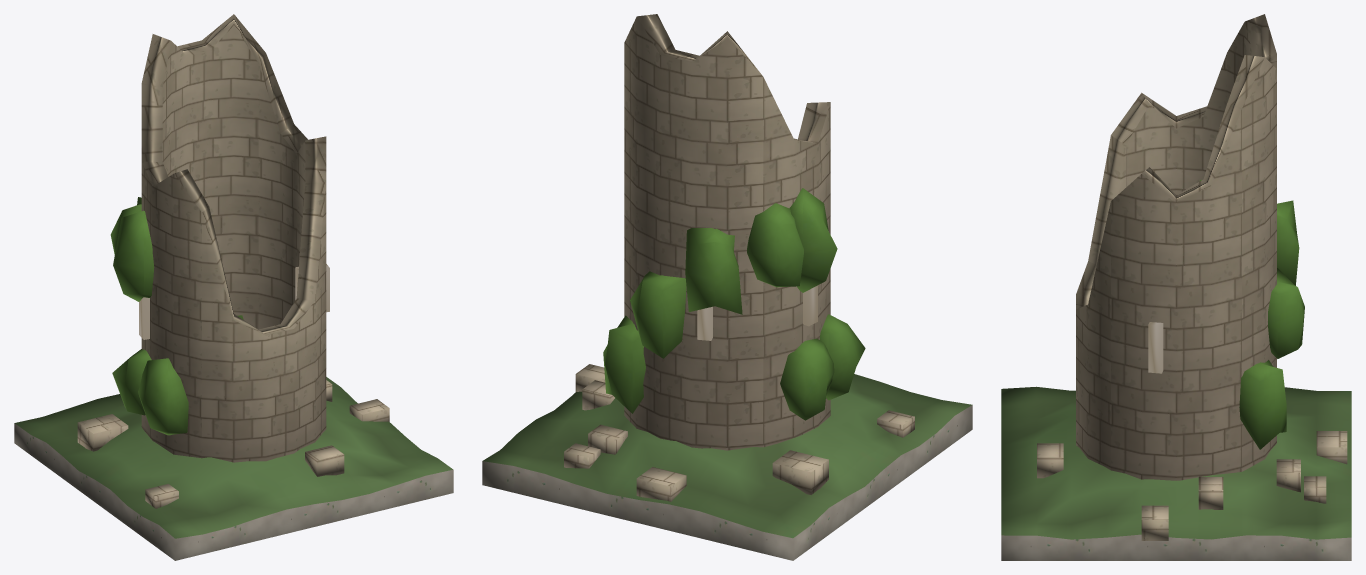
The model's file is ruin.glb.
The picture shows the model from 3 angles, left to right: view 1: azimuth 30°, elevation 25°; view 2: azimuth 150°, elevation 25°; view 3: azimuth 270°, elevation 25°; orthographic projection. The views are drawn at different scales.
Visible parts, largest first — view 1: scenery.ruin; view 2: scenery.ruin; view 3: scenery.ruin.
Boxes of the visible parts, box(x1,y1,x2,y2) form: scenery.ruin: box(14, 14, 453, 560); scenery.ruin: box(482, 14, 972, 560); scenery.ruin: box(1001, 14, 1351, 560).
Bounding box in the file's own units: 6.01 × 8.54 × 6.
Materials: 5 (4 with a texture image).
